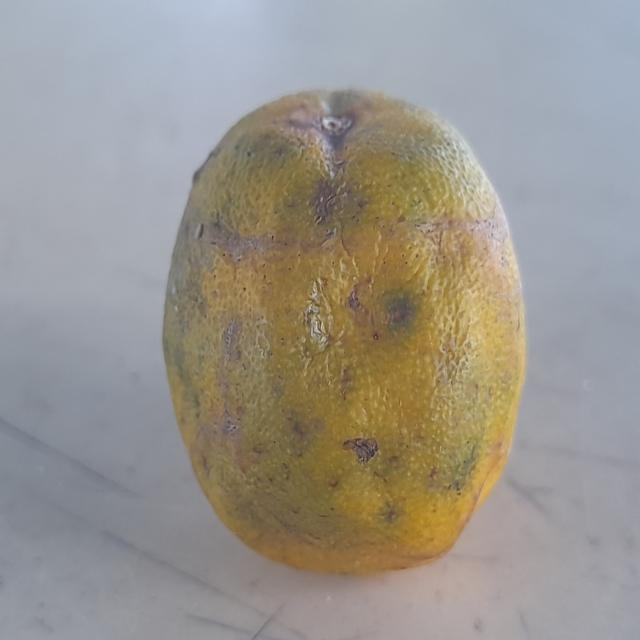black spot: (148, 82, 539, 577)
